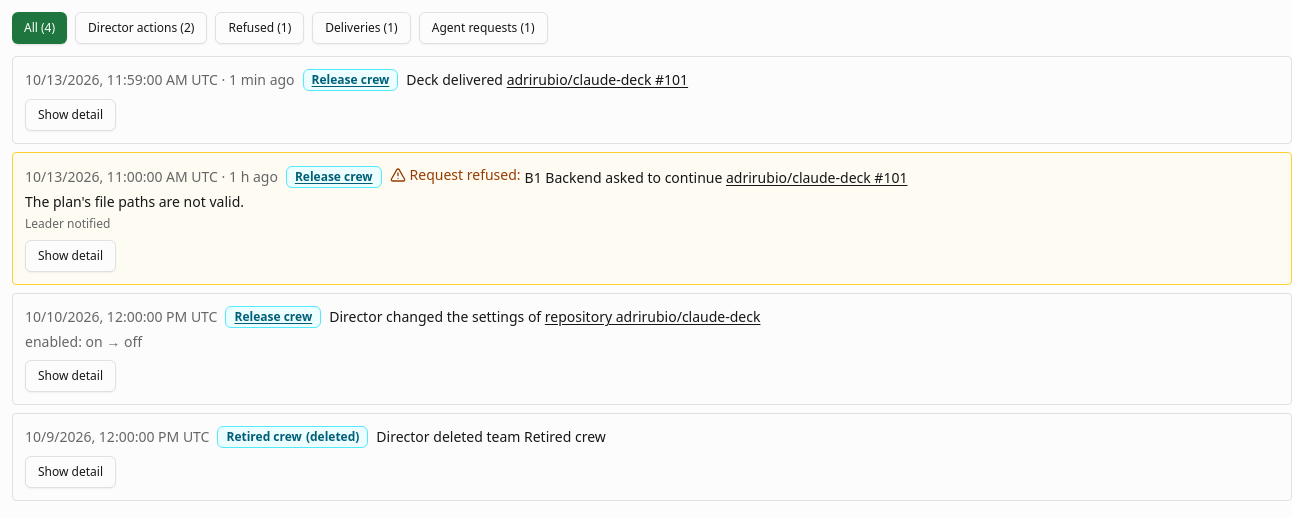
Scenario: ActivityFeed › filters the loaded page with the chips and counts each one
Expected: the button "Director actions (2)" is shown, x1=75 y1=12 x2=207 y2=44
Expected: the button "Deliveries (1)" is shown, x1=312 y1=12 x2=411 y2=44
Click the button "Refused (1)": (260, 28) x1=215 y1=12 x2=304 y2=44
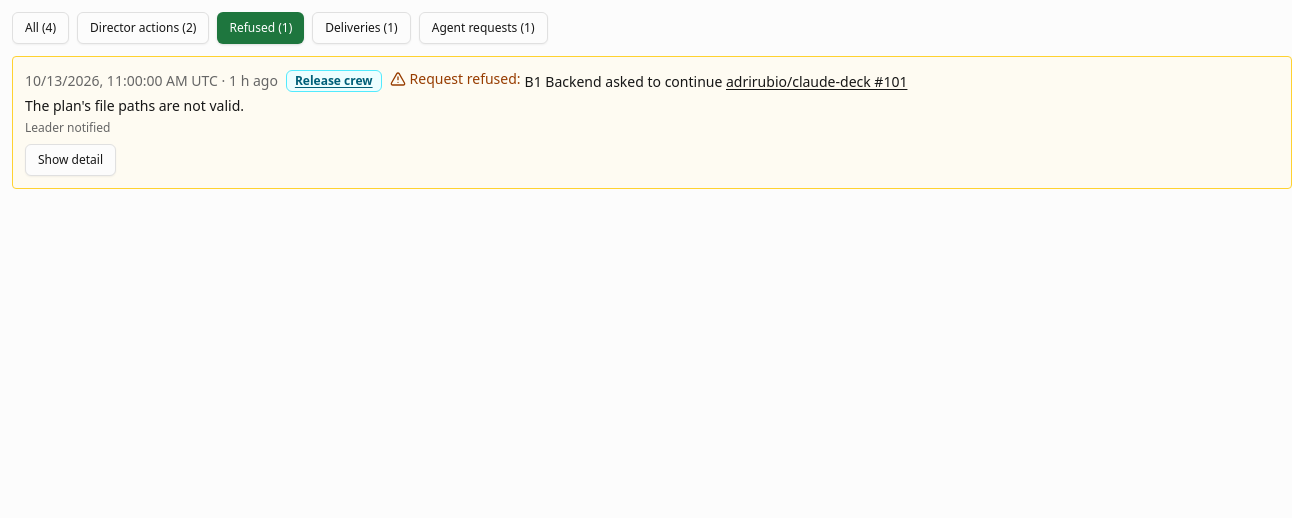
Result: the number of elements with test id "audit-feed-row" is 1 at x1=12 y1=56 x2=1291 y2=189
Click the button "Director actions (2)": (143, 28) x1=77 y1=12 x2=209 y2=44
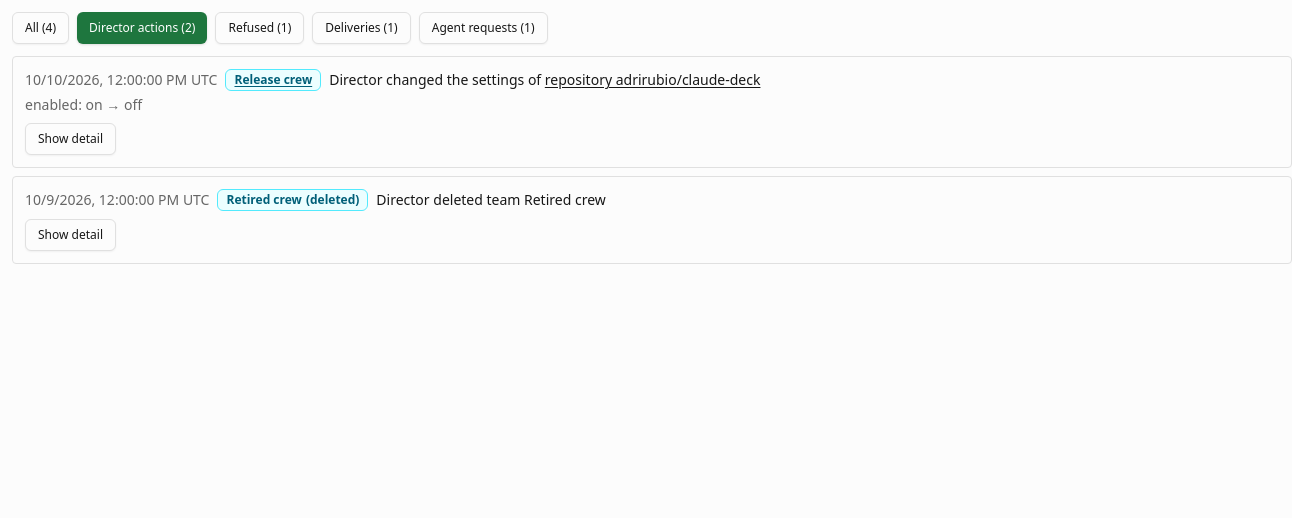
Result: the number of elements with test id "audit-feed-row" is 2 at x1=12 y1=56 x2=1291 y2=168; x1=12 y1=176 x2=1291 y2=264
Click the button "All (4)": (41, 28) x1=12 y1=12 x2=69 y2=44
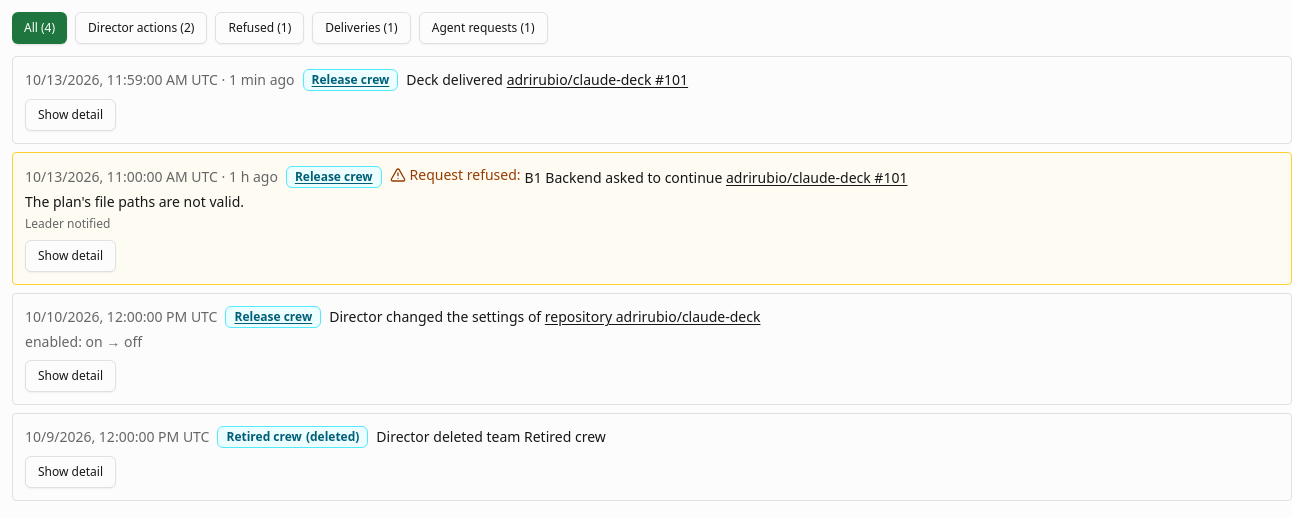
Result: the number of elements with test id "audit-feed-row" is 4 at x1=12 y1=56 x2=1291 y2=144; x1=12 y1=152 x2=1291 y2=285; x1=12 y1=293 x2=1291 y2=405; x1=12 y1=413 x2=1291 y2=501
